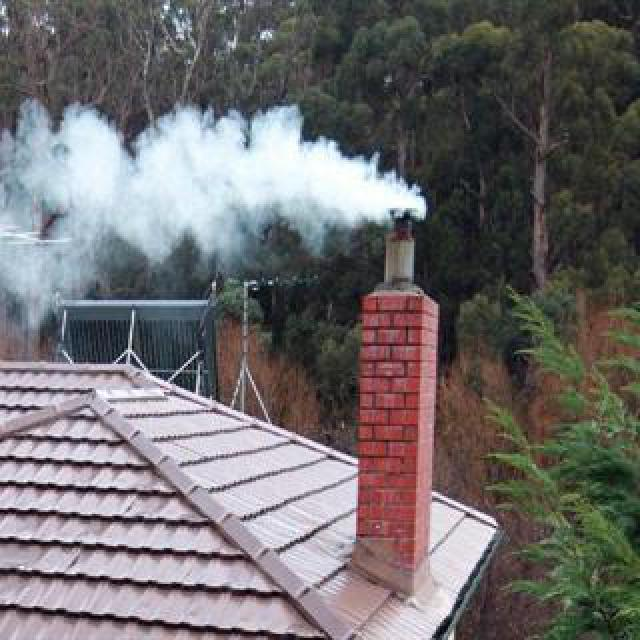Smoke: (2, 92, 436, 302)
